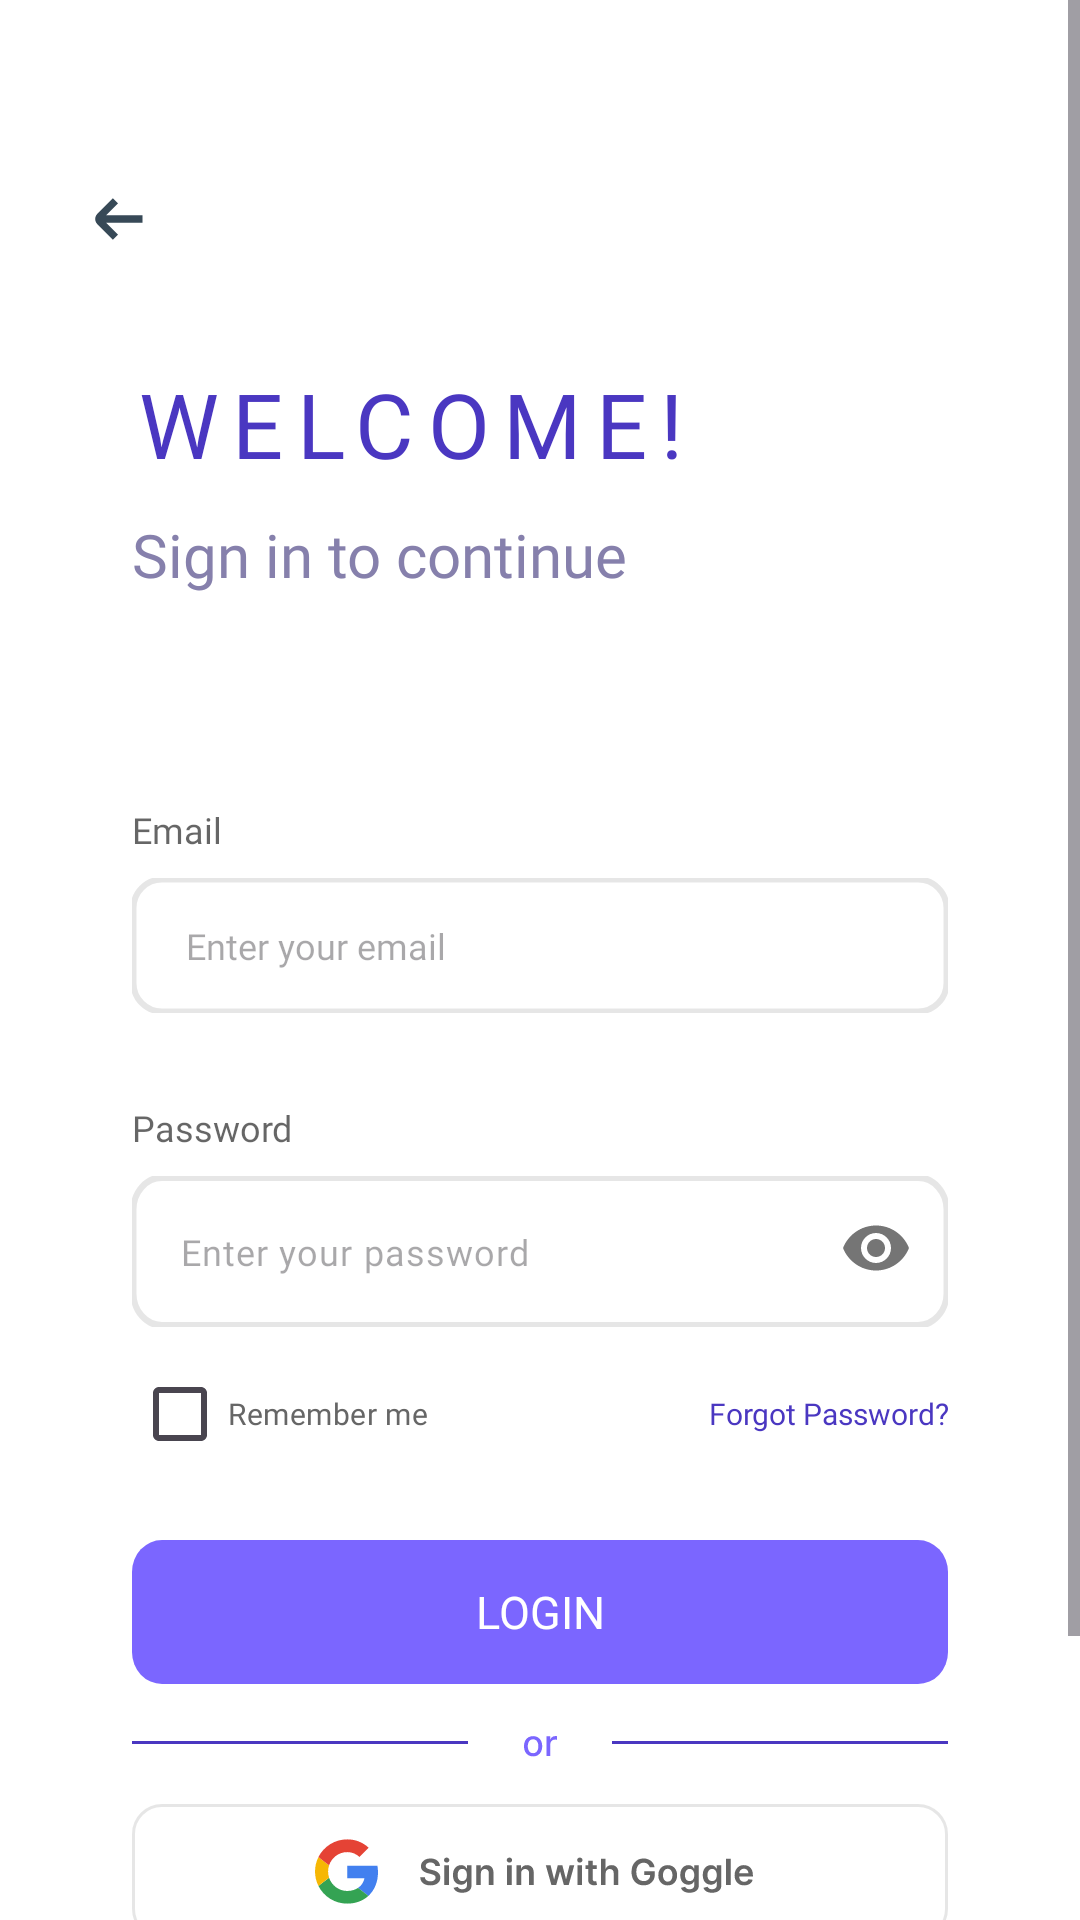

Named icons in this screenshot (1080x1920) and their centers, (x=x, y=y):
btnback: (x=119, y=219)
